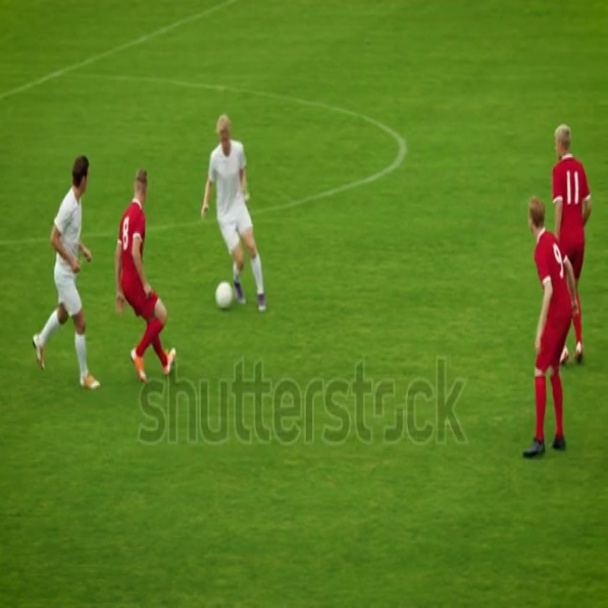ball: (217, 279, 234, 314)
